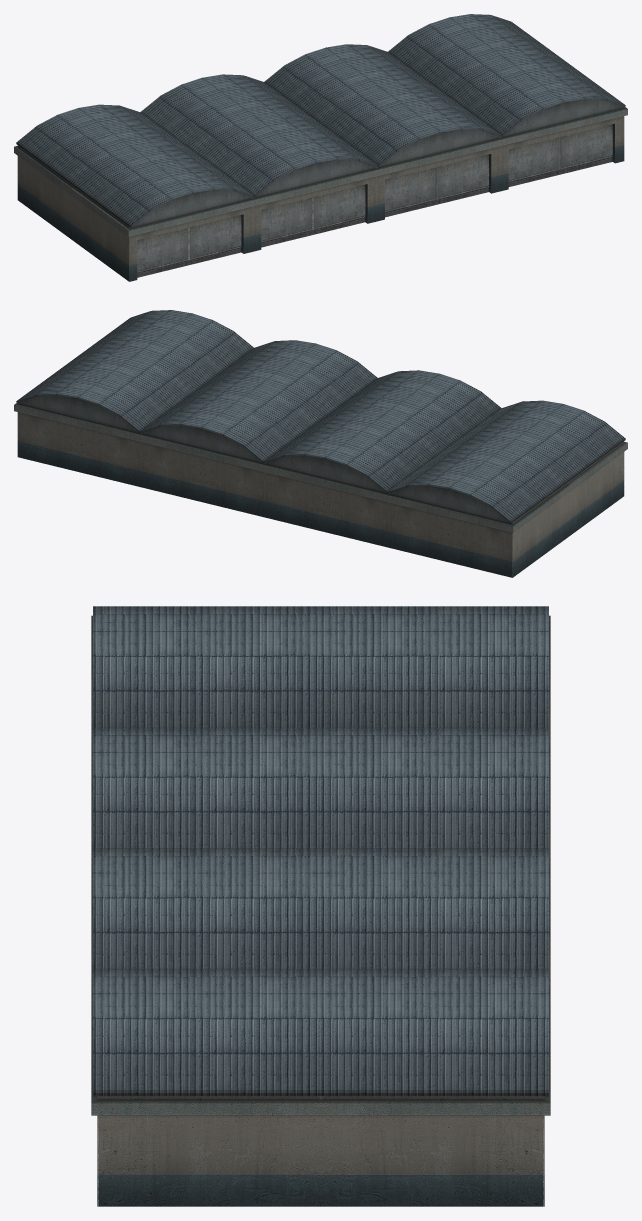
Rendered from warehouse_01.FBX.
3 renders of one model, top to bottom at view 1: azimuth 30°, elevation 25°; view 2: azimuth 150°, elevation 25°; view 3: azimuth 270°, elevation 25°, orthographic. The views are drawn at different scales.
Visible parts, largest first — view 1: 01; view 2: 01; view 3: 01.
Part boxes in pixels (bbox=[...]): 01: bbox=[14, 14, 627, 281]; 01: bbox=[14, 310, 627, 577]; 01: bbox=[91, 606, 550, 1206].
Size of the model in its own units: 5110 by 2035 by 746.
1 material, 1 textured.
